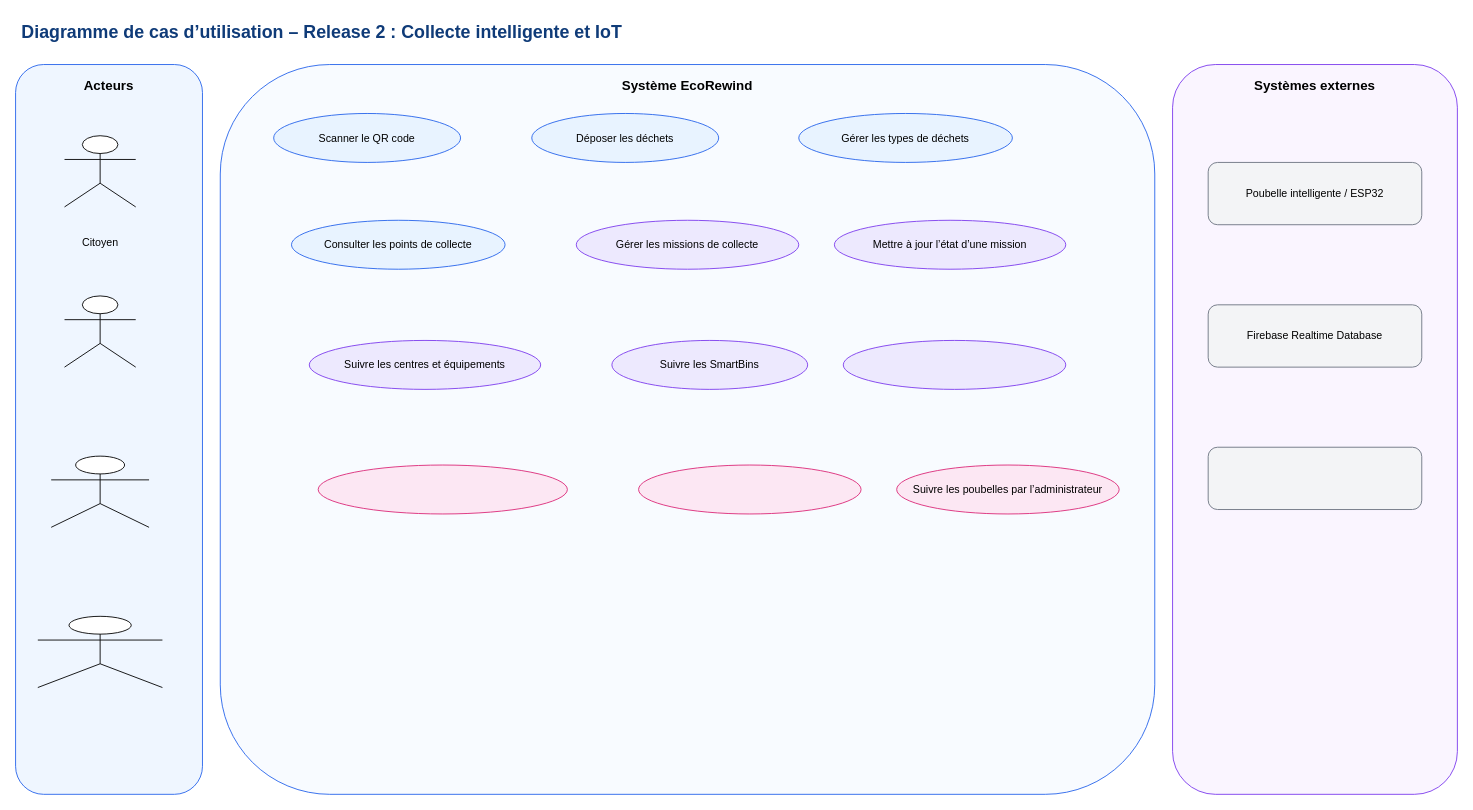
This 1473x810 diagram has some shape labels left out. The shapes that lost their labels are listed below. From the top down, each one's centre as x and y in pixels, then its label:
(x=100, y=331): Collecteur
(x=954, y=364): Recevoir les données de remplissage
(x=99, y=491): Administrateur
(x=442, y=489): Recevoir les notifications des équipements
(x=749, y=489): Consulter les données de collecte
(x=1314, y=478): Service de notifications (FCM)
(x=99, y=651): Intercommunalité
